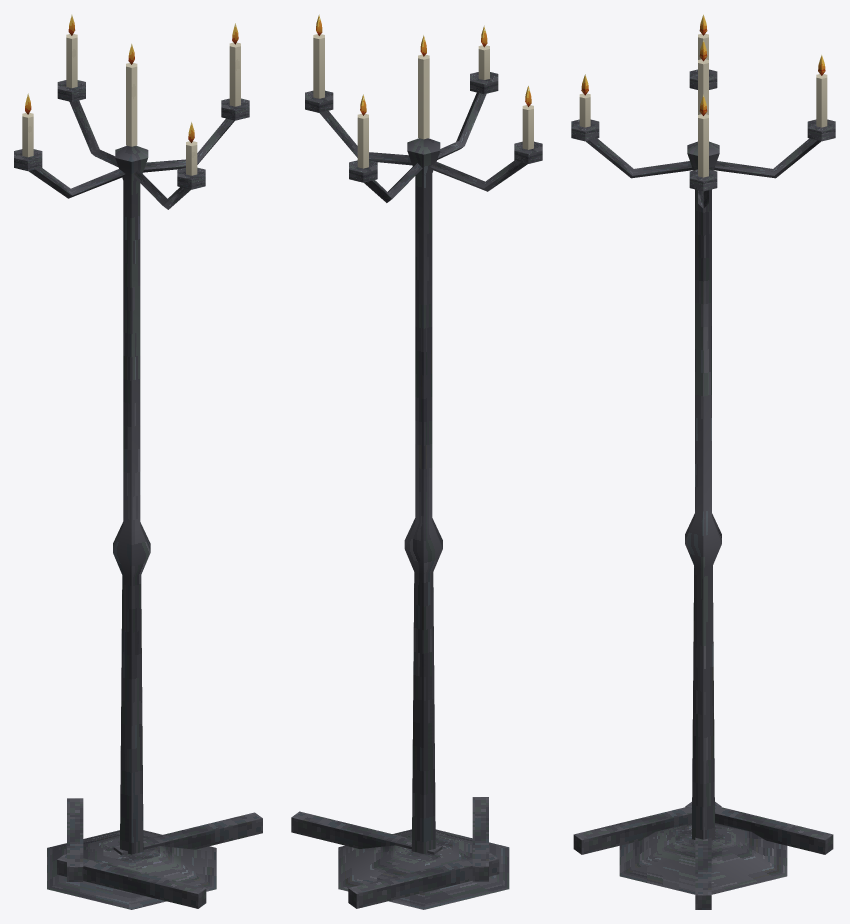
File: candelabrum.glb
The picture shows the model from 3 angles, left to right: view 1: azimuth 30°, elevation 25°; view 2: azimuth 150°, elevation 25°; view 3: azimuth 270°, elevation 25°; orthographic projection. The views are drawn at different scales.
Parts seen in each view (by area): view 1: candelabrum; view 2: candelabrum; view 3: candelabrum.
Boxes of the visible parts, x1,y1,x2,y2 form: candelabrum: (14, 14, 262, 909); candelabrum: (291, 14, 542, 909); candelabrum: (571, 14, 835, 909).
Size of the model in its own units: 0.52 by 1.67 by 0.492.
Materials: 1 (1 with a texture image).
